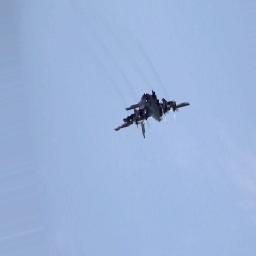Airplane: (113, 90, 192, 139)
